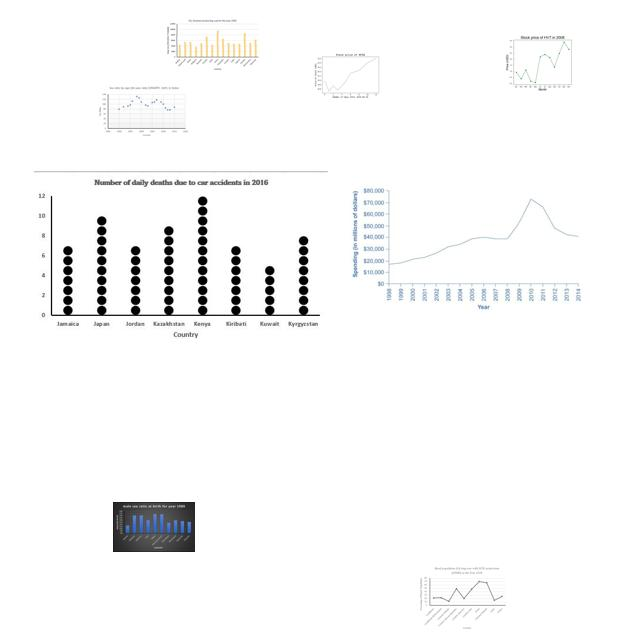Graph: (34, 171, 328, 348), (342, 182, 586, 310), (418, 565, 507, 630), (499, 33, 584, 91), (166, 19, 259, 71), (98, 84, 189, 137), (113, 502, 195, 552), (313, 47, 386, 102)
